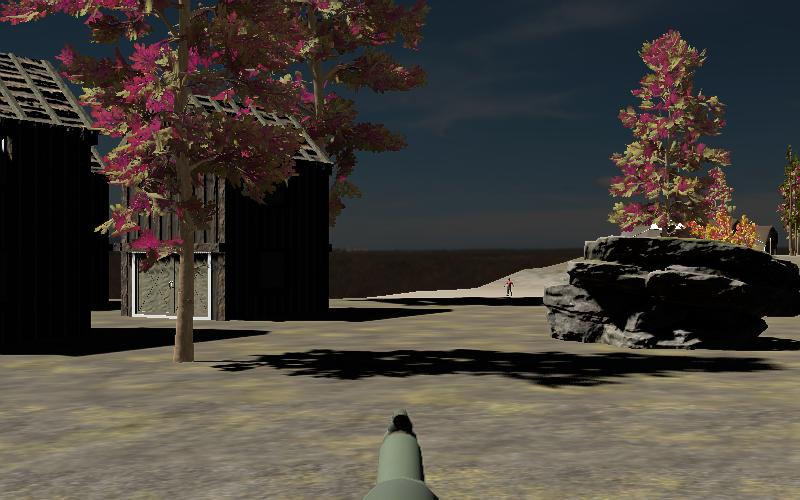House: (0, 44, 107, 355)
Human: (502, 276, 516, 299)
